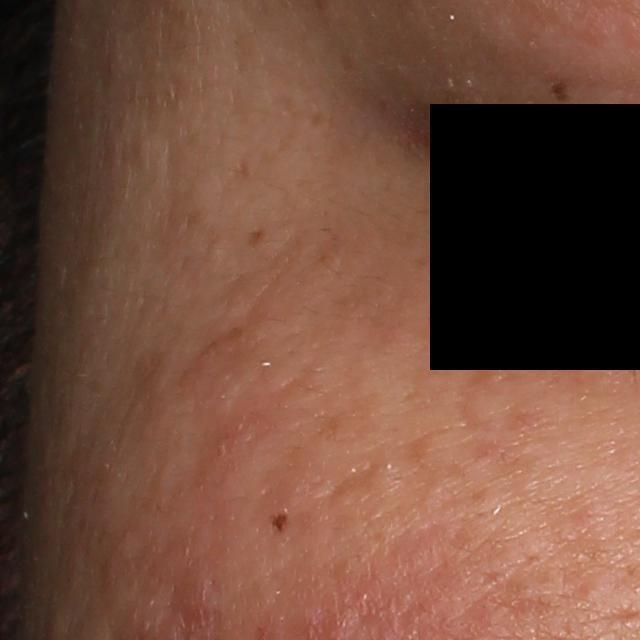nevus: (266, 508, 290, 537), (549, 78, 573, 107)
